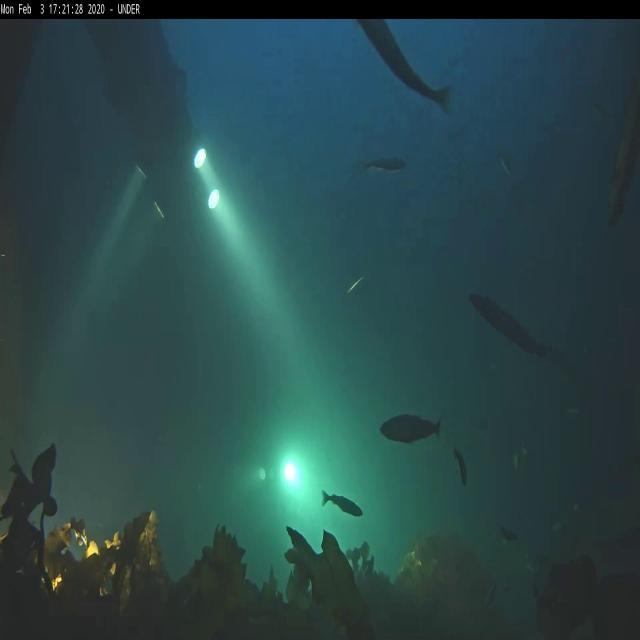fish: (355, 19, 455, 114), (472, 290, 548, 362), (608, 78, 639, 236), (381, 414, 441, 442), (322, 488, 364, 516), (363, 154, 407, 174), (343, 274, 365, 297), (550, 513, 572, 536), (454, 446, 466, 484), (498, 148, 512, 177), (500, 528, 520, 542), (512, 452, 521, 472)
